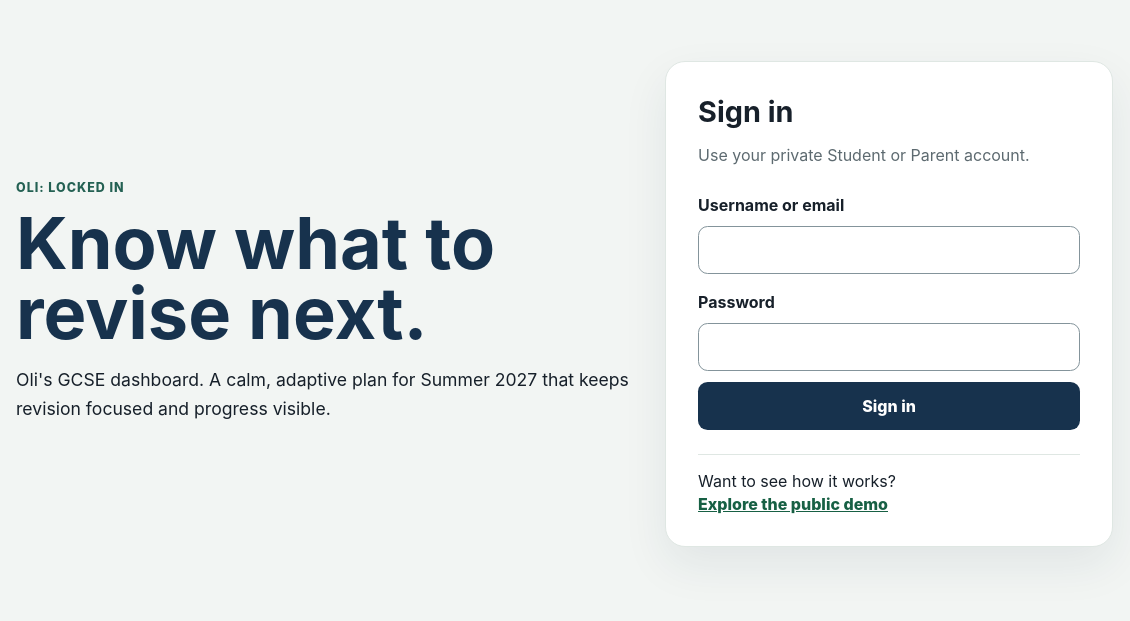
Scenario: SignIn › shows a useful authentication error
The width and height of the screenshot is (1130, 621).
Type "student" into the field labelled "Username or email" at (889, 250), box [698,226,1080,274]
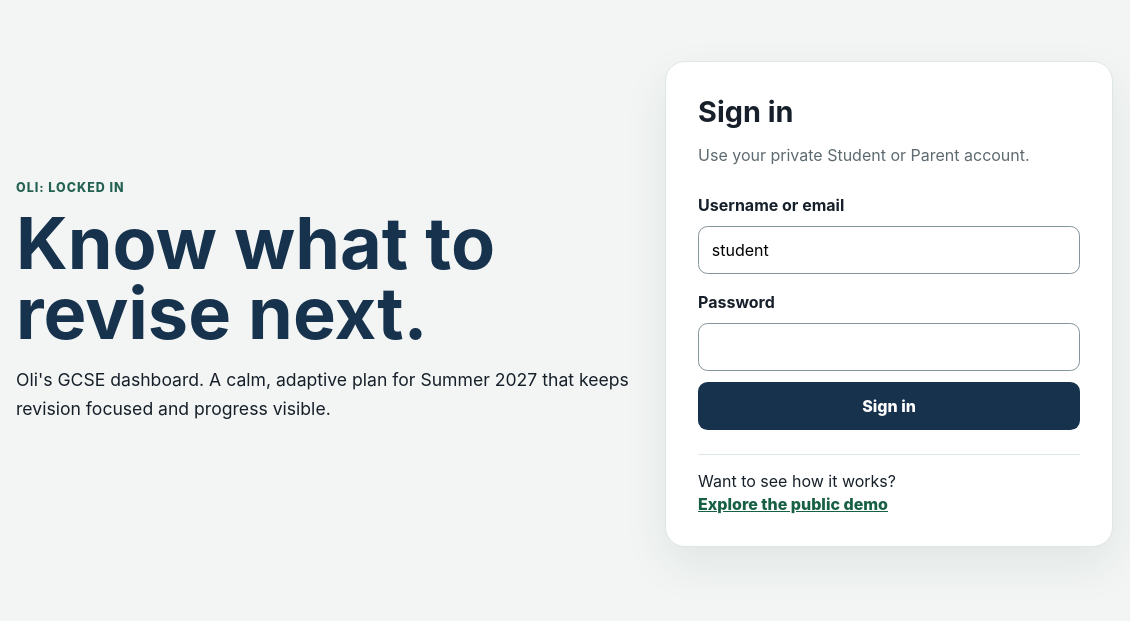
Type "wrong-password" into the password field labelled "Password" at (889, 347), box [698,323,1080,371]
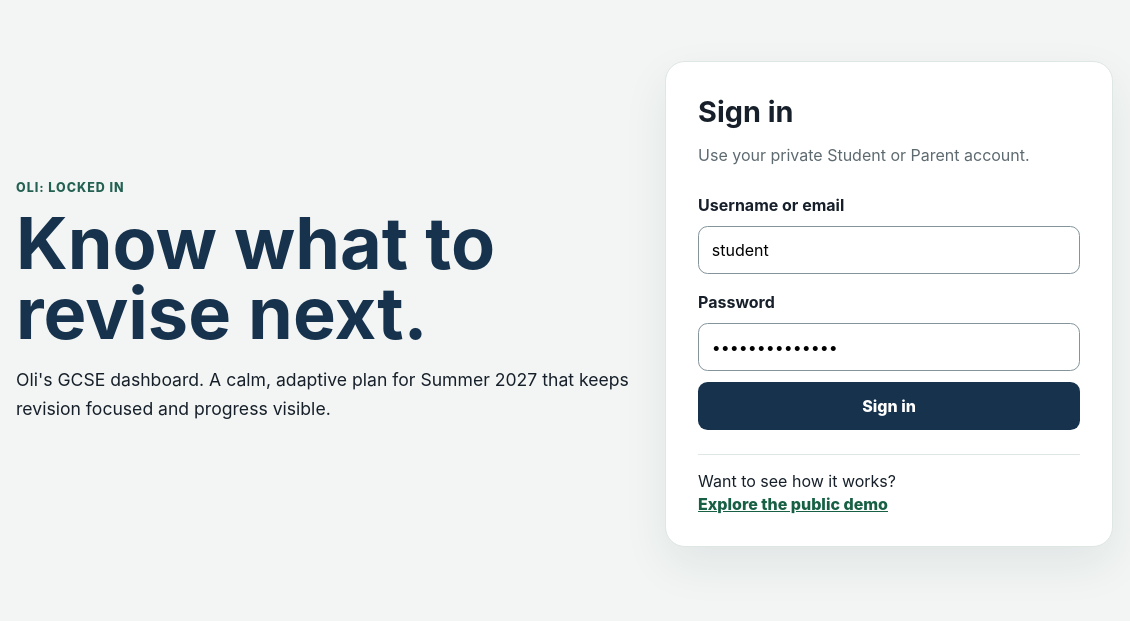
Click the button "Sign in" at (889, 406), box [698,382,1080,430]
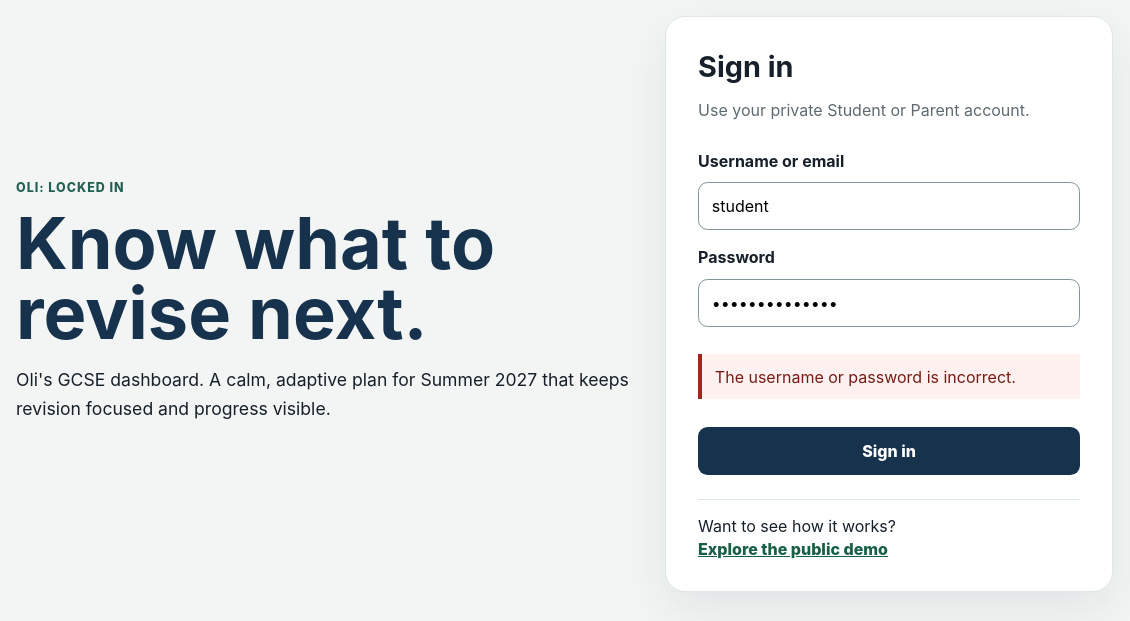
Check: the message reads "The username or password is incorrect.", box [715,367,1016,387]
